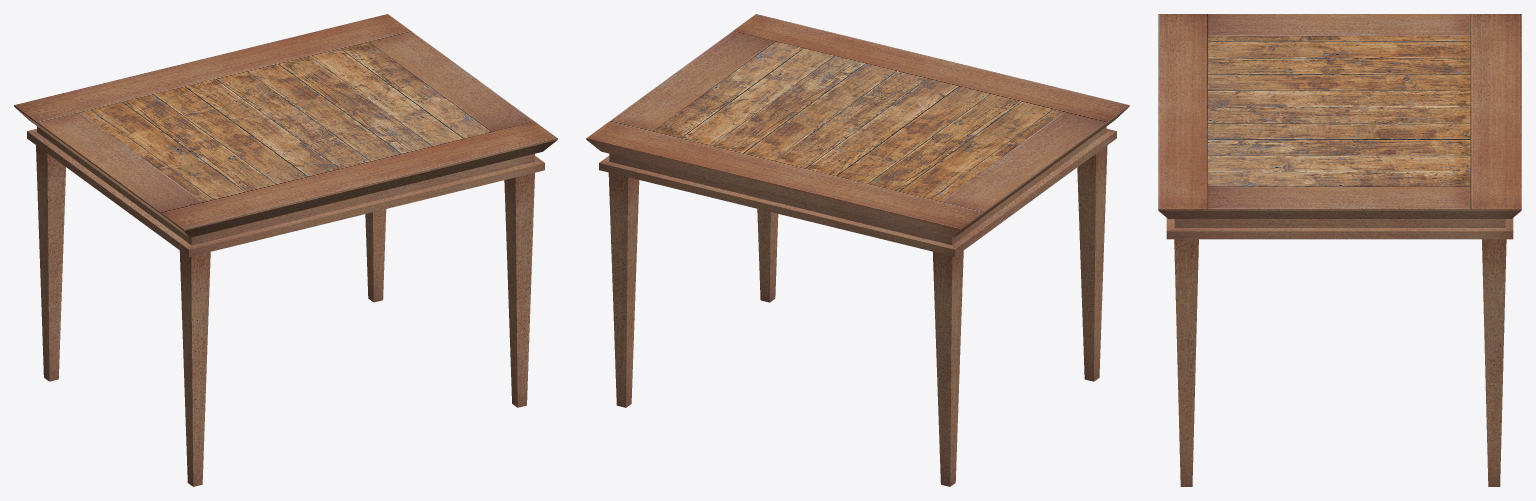
File: Mesh_MainMenu_Desk.FBX
The picture shows the model from 3 angles, left to right: view 1: azimuth 30°, elevation 25°; view 2: azimuth 150°, elevation 25°; view 3: azimuth 270°, elevation 25°; orthographic projection. The views are drawn at different scales.
Visible parts, largest first — view 1: Box01; view 2: Box01; view 3: Box01.
Boxes of the visible parts, x1,y1,x2,y2 form: Box01: [14, 14, 557, 486]; Box01: [586, 14, 1129, 486]; Box01: [1158, 14, 1521, 486].
Bounding box in the file's own units: 141 × 97.21 × 111.
Materials: 1 (1 with a texture image).
